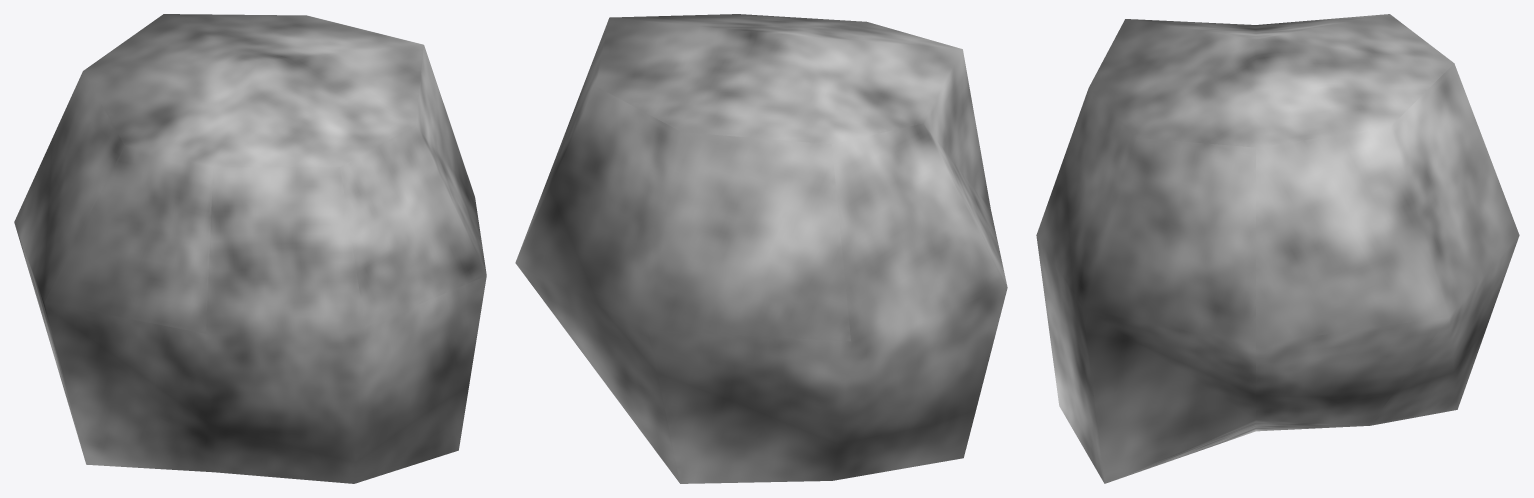
File: asteroid3.glb
3 renders of one model, left to right at view 1: azimuth 30°, elevation 25°; view 2: azimuth 150°, elevation 25°; view 3: azimuth 270°, elevation 25°, orthographic. The views are drawn at different scales.
Parts seen in each view (by area): view 1: asteroid 01.005; view 2: asteroid 01.005; view 3: asteroid 01.005.
Part boxes in pixels (x1,y1,x2,y2): asteroid 01.005: [14, 14, 486, 483]; asteroid 01.005: [515, 14, 1007, 483]; asteroid 01.005: [1036, 14, 1519, 483].
Bounding box in the file's own units: 3.88 × 3.25 × 3.64.
1 material, 1 textured.
